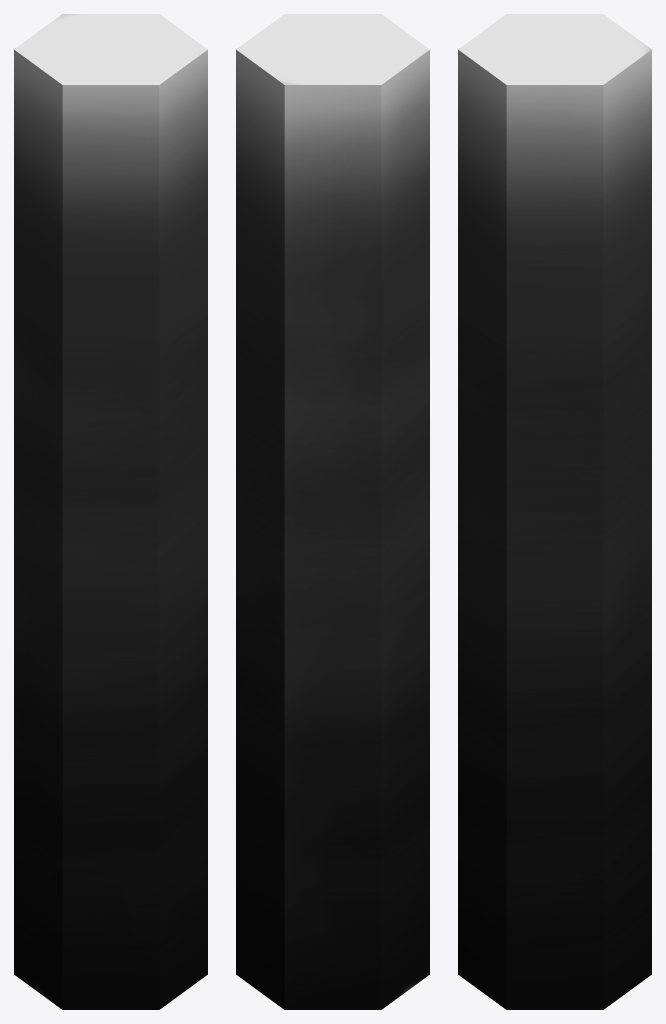
File: Hex.fbx
3 renders of one model, left to right at view 1: azimuth 30°, elevation 25°; view 2: azimuth 150°, elevation 25°; view 3: azimuth 270°, elevation 25°, orthographic.
Visible parts, largest first — view 1: Hex; view 2: Hex; view 3: Hex.
Boxes of the visible parts, box(x1,y1,x2,y2) form: Hex: box(14, 14, 207, 1009); Hex: box(236, 14, 429, 1009); Hex: box(458, 14, 651, 1009).
Size of the model in its own units: 165 by 1000 by 190.
1 material, 1 textured.
